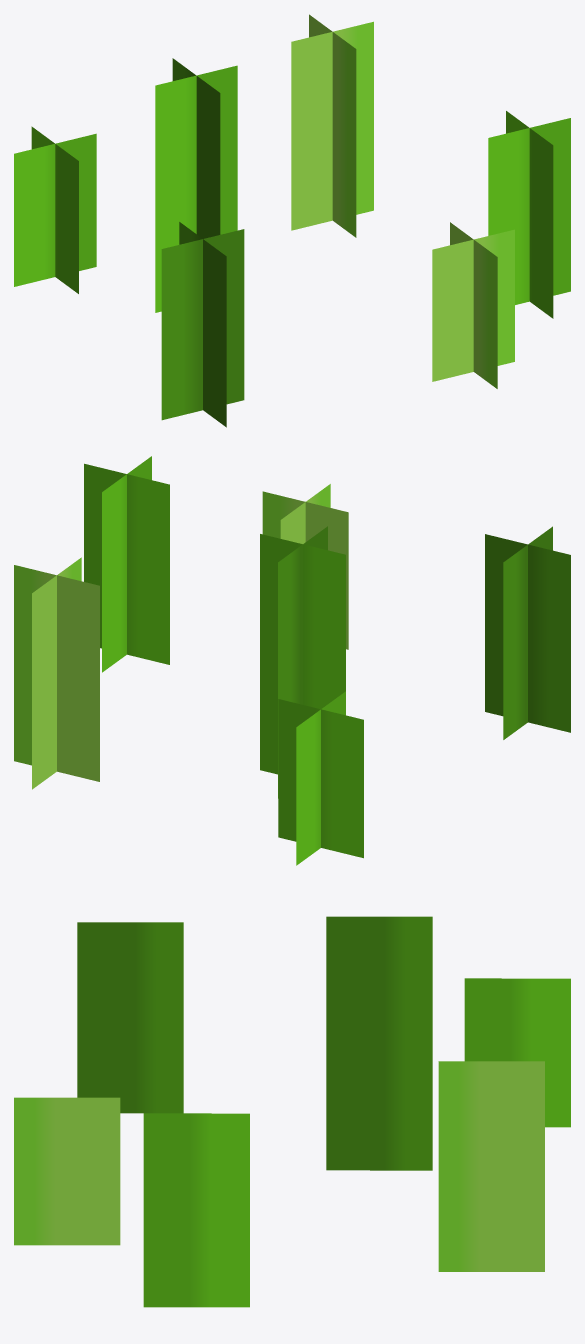
Rendered from Grass_Green_01_Light.fbx.
3 renders of one model, top to bottom at view 1: azimuth 30°, elevation 25°; view 2: azimuth 150°, elevation 25°; view 3: azimuth 270°, elevation 25°, orthographic. The views are drawn at different scales.
Parts seen in each view (by area): view 1: Cube; view 2: Cube; view 3: Cube.
Boxes of the visible parts, left/top/right/bottom form: Cube: left=14, top=14, right=570, bottom=427; Cube: left=14, top=456, right=570, bottom=865; Cube: left=14, top=916, right=570, bottom=1307.
Bounding box in the file's own units: 0.8169 × 0.4046 × 0.8044.
